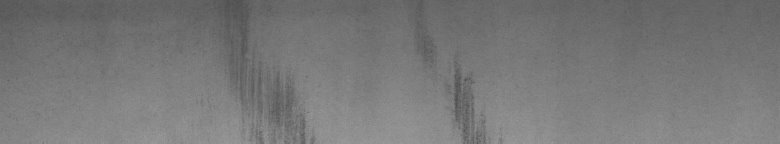ka: (447, 68, 485, 136)
